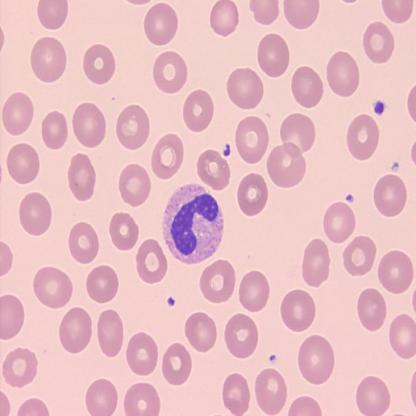Band Neutrophil: (160, 181, 226, 266)
